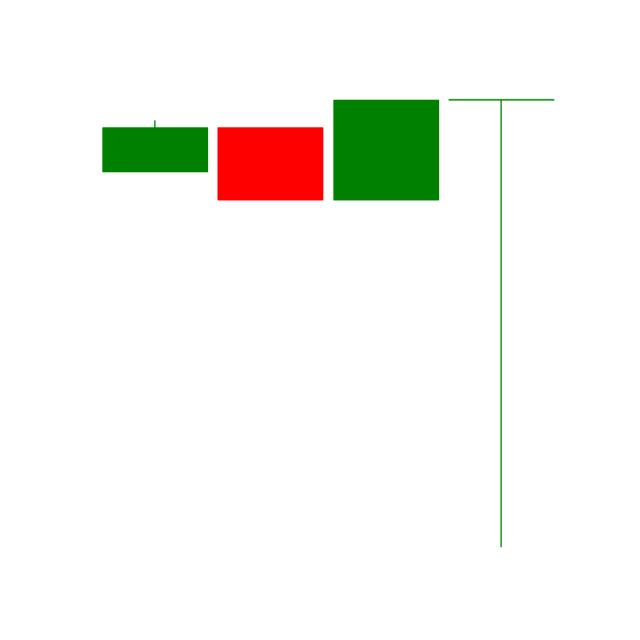Dragonfly Doji: (443, 94, 559, 552)
